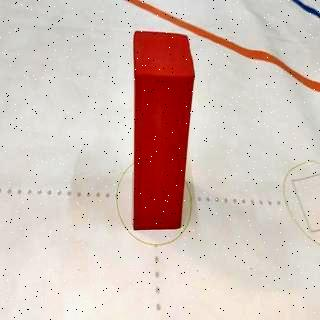redbox: (132, 29, 194, 232)
